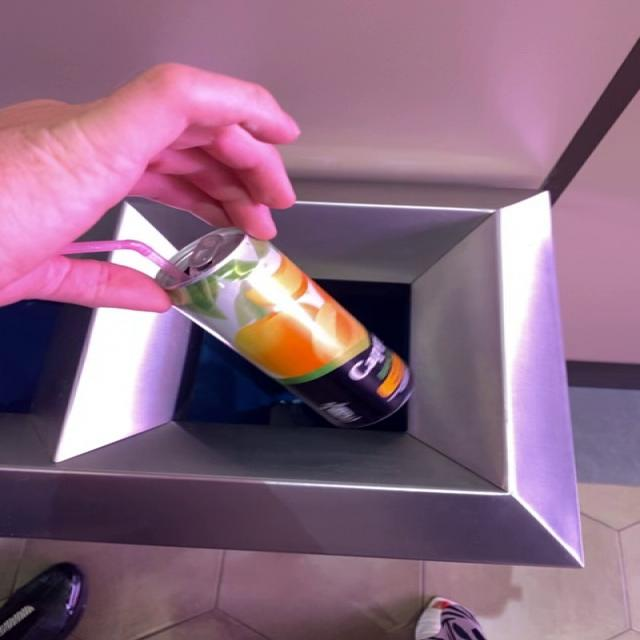bin: (3, 184, 584, 568)
metal: (156, 228, 413, 429)
